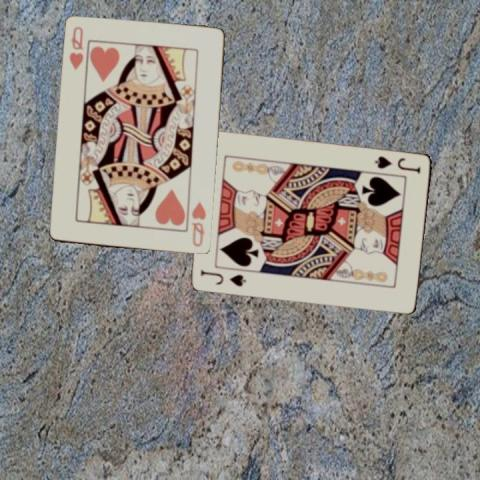Js: (371, 153, 422, 174), (198, 267, 247, 288)
Qh: (189, 199, 208, 249), (66, 23, 84, 72)
